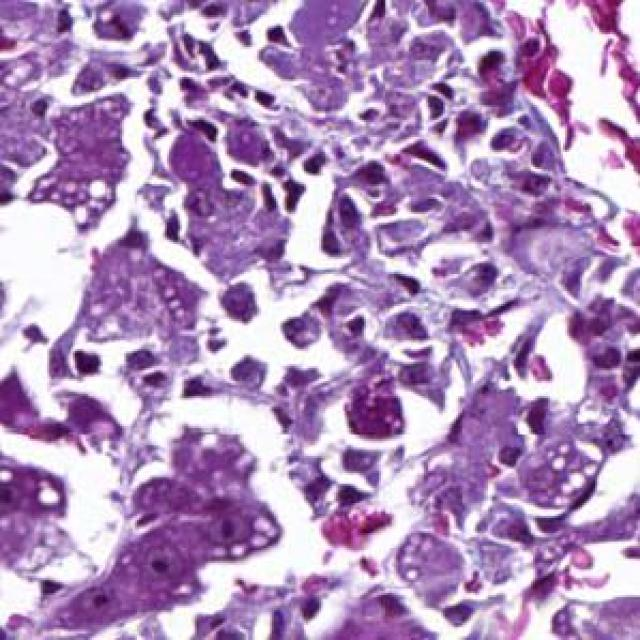inflammation: (409, 26, 531, 184)
